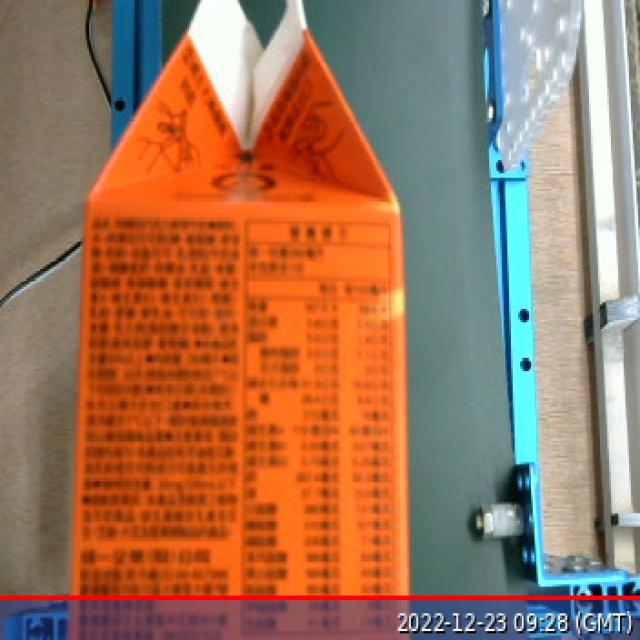non_white_jug: (60, 0, 423, 640)
